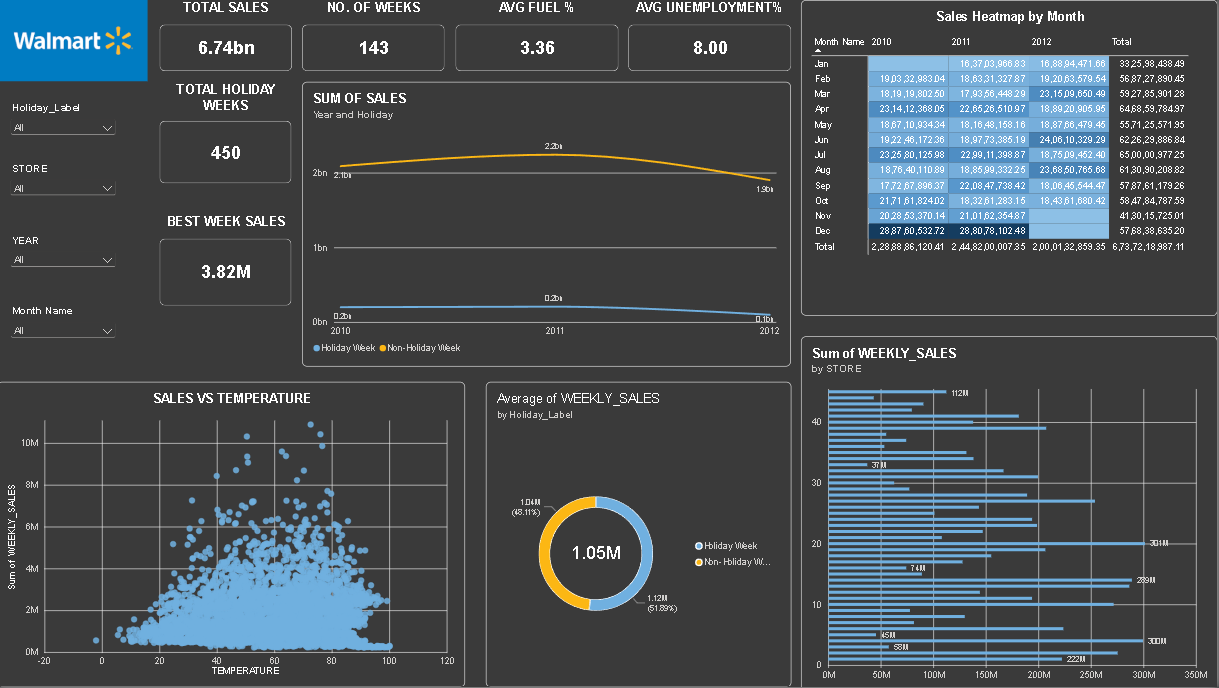

This screenshot's page, from the dashboard's own definition file:
{"tool":"powerbi","page":{"name":"Page 1","canvas":[1920,1080],"ordinal":0},"visuals":[{"type":"clusteredBarChart","fields":{"Category":["WALMART_SALES.STORE"],"Y":["Sum(WALMART_SALES.WEEKLY_SALES)"]},"box":[1264,528,656,560],"z":1},{"type":"cardVisual","title":"TOTAL SALES","fields":{"Data":["Sum(WALMART_SALES.WEEKLY_SALES)"]},"box":[256,0,208,112],"z":2},{"type":"cardVisual","title":"NO. OF WEEKS","fields":{"Data":["WALMART_SALES.Distinct Weeks"]},"box":[480,0,224,112],"z":3},{"type":"slicer","fields":{"Values":["WALMART_SALES.Holiday_Label"]},"box":[16,160,176,112],"z":4},{"type":"lineChart","title":"SUM OF SALES","fields":{"Category":["WALMART_SALES.SALE_DATE.Variation.Date Hierarchy.Year","WALMART_SALES.SALE_DATE.Variation.Date Hierarchy.Quarter","WALMART_SALES.SALE_DATE.Variation.Date Hierarchy.Month","WALMART_SALES.SALE_DATE.Variation.Date Hierarchy.Day"],"Series":["WALMART_SALES.Holiday_Label"],"Y":["Sum(WALMART_SALES.WEEKLY_SALES)"]},"box":[480,128,768,448],"z":5},{"type":"donutChart","fields":{"Category":["WALMART_SALES.Holiday_Label"],"Y":["Avg(WALMART_SALES.WEEKLY_SALES)"]},"box":[768,600,480,480],"z":6},{"type":"image","box":[0,0,240,128],"z":8},{"type":"cardVisual","title":"AVG  UNEMPLOYMENT%","fields":{"Data":["Avg(WALMART_SALES.UNEMPLOYMENT)"]},"box":[992,0,256,112],"z":9},{"type":"cardVisual","title":"AVG FUEL   %","fields":{"Data":["Avg(WALMART_SALES.FUEL_PRICE)"]},"box":[720,0,256,112],"z":10},{"type":"scatterChart","title":"SALES VS TEMPERATURE","fields":{"X":["WALMART_SALES.TEMPERATURE"],"Y":["Sum(WALMART_SALES.WEEKLY_SALES)"]},"box":[0,600,736,480],"z":11},{"type":"pivotTable","title":"Sales Heatmap by Month","fields":{"Columns":["WALMART_SALES.YEAR"],"Rows":["WALMART_SALES.Month Name"],"Values":["Sum(WALMART_SALES.WEEKLY_SALES)"]},"box":[1264,0,656,496],"z":12},{"type":"cardVisual","title":"TOTAL HOLIDAY WEEKS","fields":{"Data":["WALMART_SALES.Holiday Weeks"]},"box":[256,128,208,160],"z":13},{"type":"cardVisual","title":"BEST WEEK SALES","fields":{"Data":["Max(WALMART_SALES.WEEKLY_SALES)"]},"box":[256,336,208,144],"z":14},{"type":"slicer","fields":{"Values":["WALMART_SALES.STORE"]},"box":[16,256,176,96],"z":15},{"type":"slicer","fields":{"Values":["WALMART_SALES.YEAR"]},"box":[16,368,176,80],"z":16},{"type":"slicer","fields":{"Values":["WALMART_SALES.Month Name"]},"box":[16,480,176,96],"z":17}]}

Visuals, with their boxes in screenshot pixels (x1, y1, x2, y2), scaled from the page's 1920x1080 canvas onto the 1219x688 screenshot:
clusteredBarChart - WALMART_SALES.STORE x Sum(WALMART_SALES.WEEKLY_SALES): <bbox>803, 336, 1218, 687</bbox>
"TOTAL SALES" cardVisual: <bbox>163, 0, 295, 71</bbox>
"NO. OF WEEKS" cardVisual: <bbox>305, 0, 447, 71</bbox>
slicer - WALMART_SALES.Holiday_Label: <bbox>10, 102, 122, 173</bbox>
"SUM OF SALES" lineChart: <bbox>305, 82, 792, 367</bbox>
donutChart - WALMART_SALES.Holiday_Label x Avg(WALMART_SALES.WEEKLY_SALES): <bbox>488, 382, 792, 687</bbox>
image: <bbox>0, 0, 152, 82</bbox>
"AVG  UNEMPLOYMENT%" cardVisual: <bbox>630, 0, 792, 71</bbox>
"AVG FUEL   %" cardVisual: <bbox>457, 0, 620, 71</bbox>
"SALES VS TEMPERATURE" scatterChart: <bbox>0, 382, 467, 687</bbox>
"Sales Heatmap by Month" pivotTable: <bbox>803, 0, 1218, 316</bbox>
"TOTAL HOLIDAY WEEKS" cardVisual: <bbox>163, 82, 295, 183</bbox>
"BEST WEEK SALES" cardVisual: <bbox>163, 214, 295, 306</bbox>
slicer - WALMART_SALES.STORE: <bbox>10, 163, 122, 224</bbox>
slicer - WALMART_SALES.YEAR: <bbox>10, 234, 122, 285</bbox>
slicer - WALMART_SALES.Month Name: <bbox>10, 306, 122, 367</bbox>
